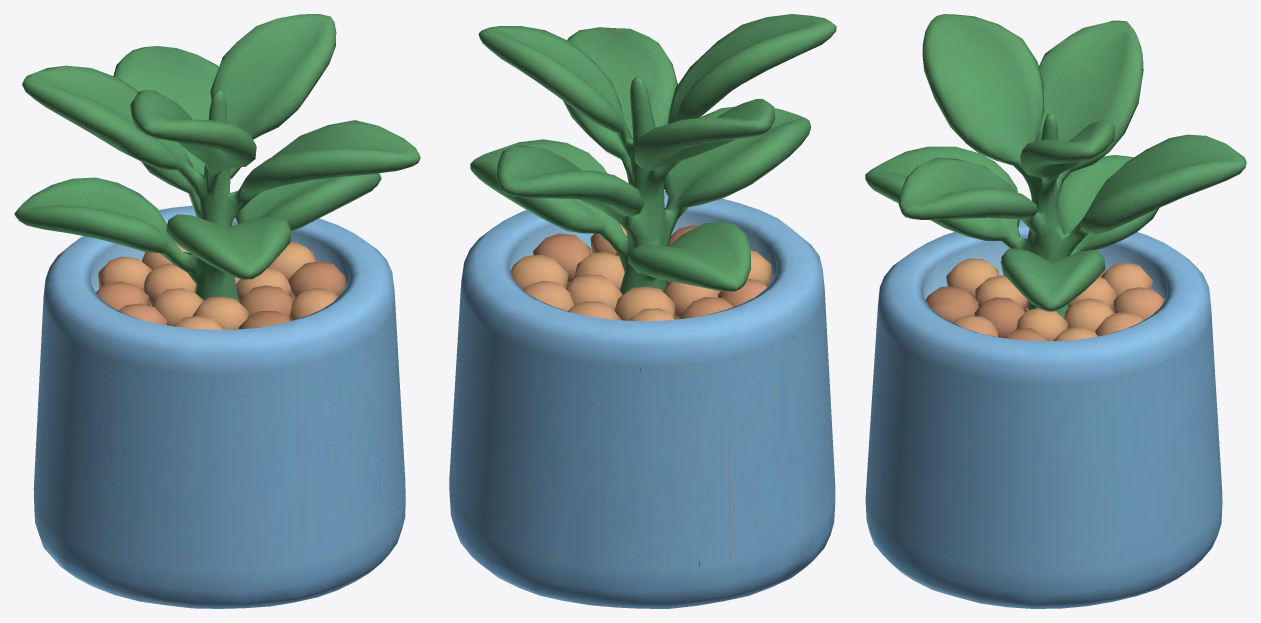
Rendered from cafe-plant.glb.
3 views of the same model, side by side, from view 1: azimuth 30°, elevation 25°; view 2: azimuth 150°, elevation 25°; view 3: azimuth 270°, elevation 25° (orthographic). The views are drawn at different scales.
Visible parts, largest first — view 1: geometry_0; view 2: geometry_0; view 3: geometry_0.
Part boxes in pixels (x1,y1,x2,y2): geometry_0: (14,14,420,608); geometry_0: (449,14,836,608); geometry_0: (865,14,1246,608).
Bounding box in the file's own units: 0.6889 × 1 × 0.7302.
Materials: 1 (1 with a texture image).
